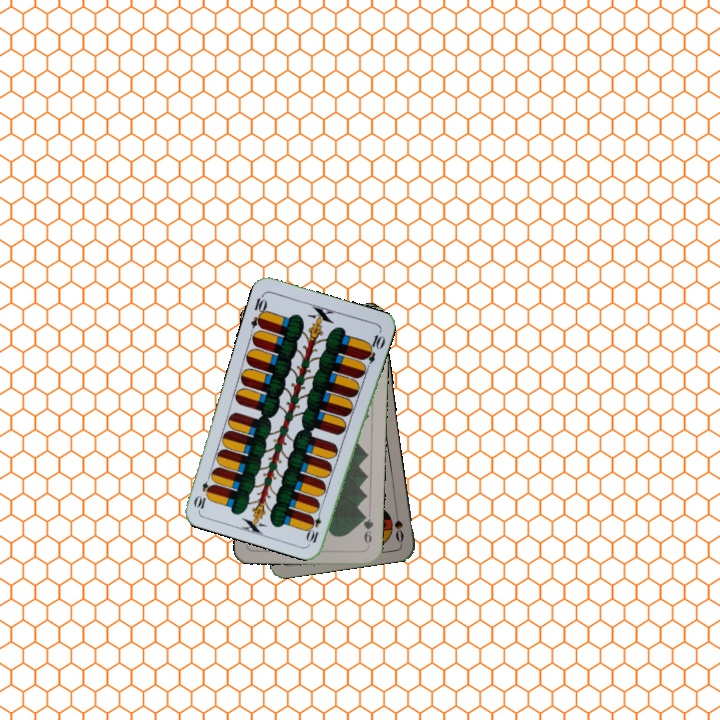E10: (247, 290, 270, 331), (304, 505, 324, 545)
G9: (359, 510, 375, 550)
SO: (390, 505, 406, 545)
